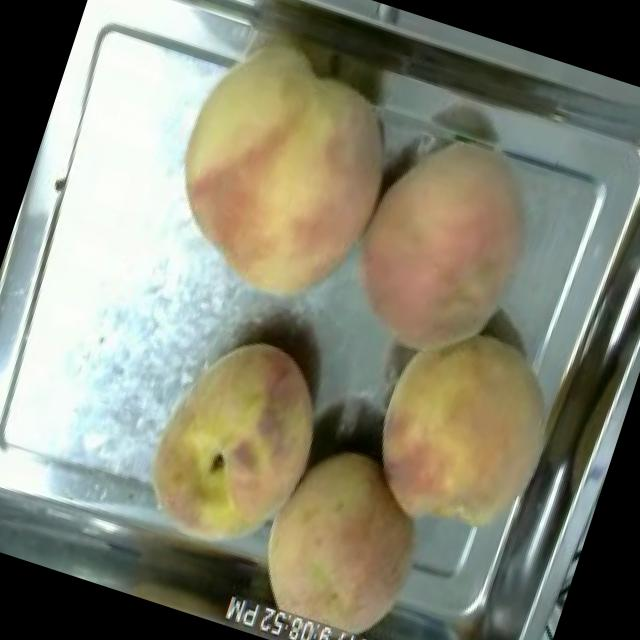Fruit: (136, 22, 424, 328), (342, 300, 595, 570), (322, 112, 562, 384), (120, 308, 354, 578), (227, 421, 453, 640)
